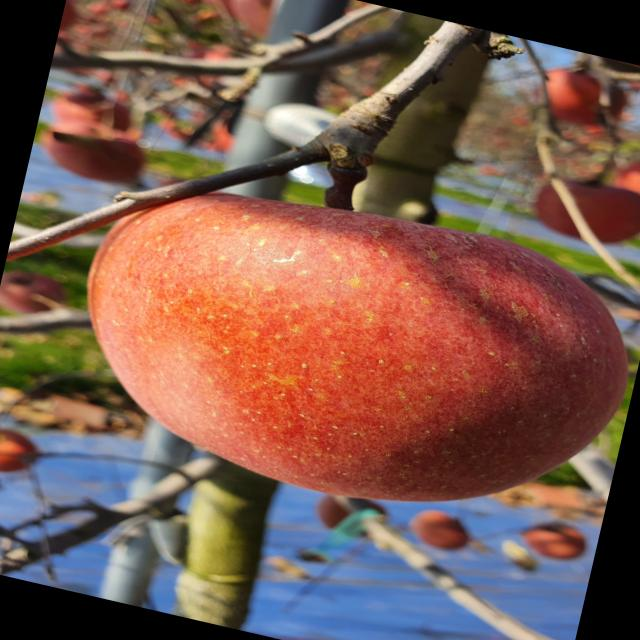fresh: (39, 134, 640, 562)
